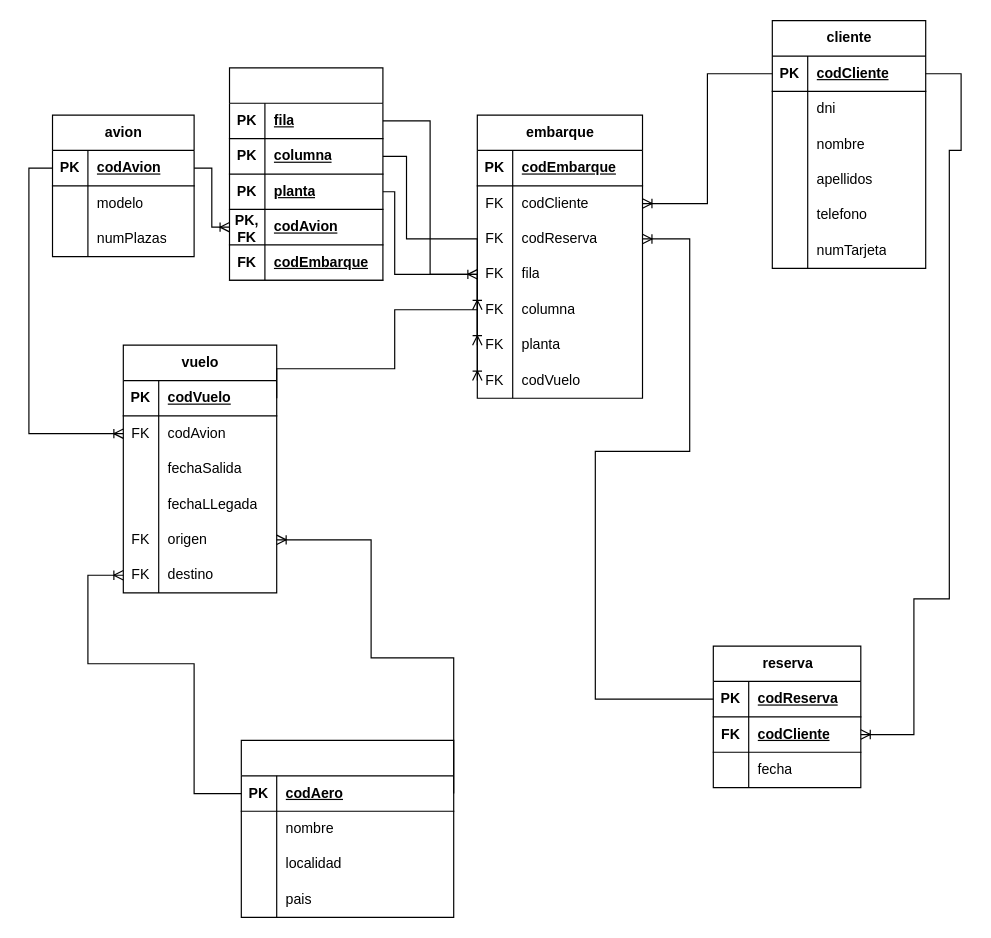
Image size: 991x938. Some labels were removed from this diagram. The shapes that lost their labels are listed below. From the top down, each one's box as (x1, y1, x2, y2) in pixels, then its label:
(228, 67, 383, 280): asiento
(240, 739, 454, 917): aeropuerto
